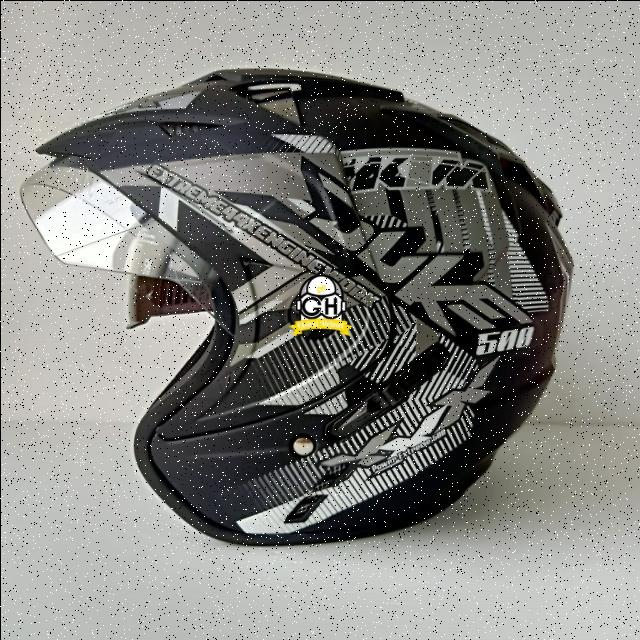Helmet: (19, 65, 574, 548)
